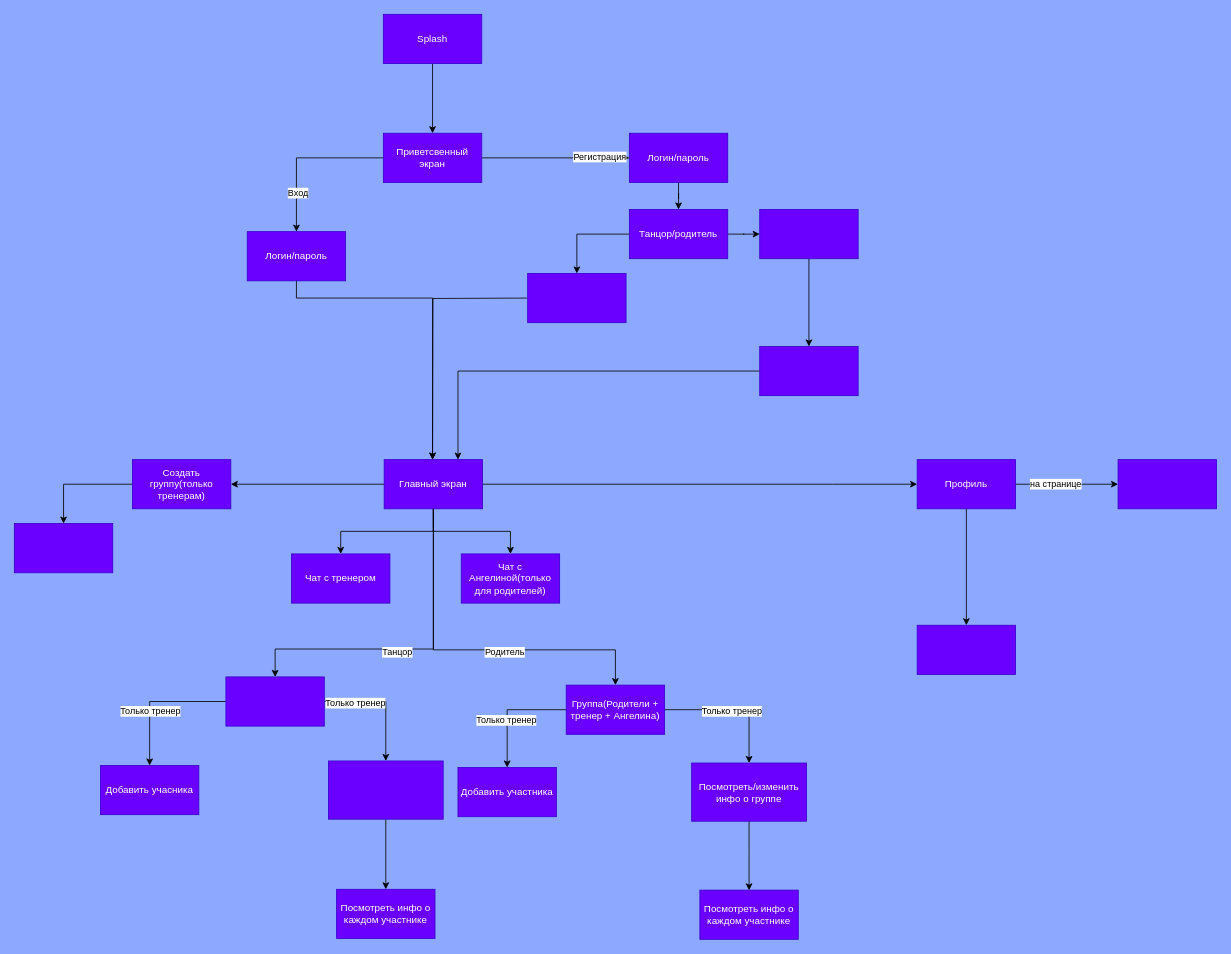
Image size: 1231x954. Some labels were removed from this diagram. The shapes that lost their labels are listed below. From the top down, each one's centre as x and y in pixels, then its label:
the point at 808,234: ФИО
the point at 576,298: ФИО/др/группу в которой занимается
the point at 808,371: В какой группе мой сыночка
the point at 1166,484: Имя/группа/др/логин/пароль
the point at 63,548: Название/возраст/
the point at 966,649: Изминить данные(группу нельзя менять)
the point at 274,701: Группа(Команда дети + тренер + Ангелина)
the point at 385,789: Посмотреть/изминить инфо о группе
